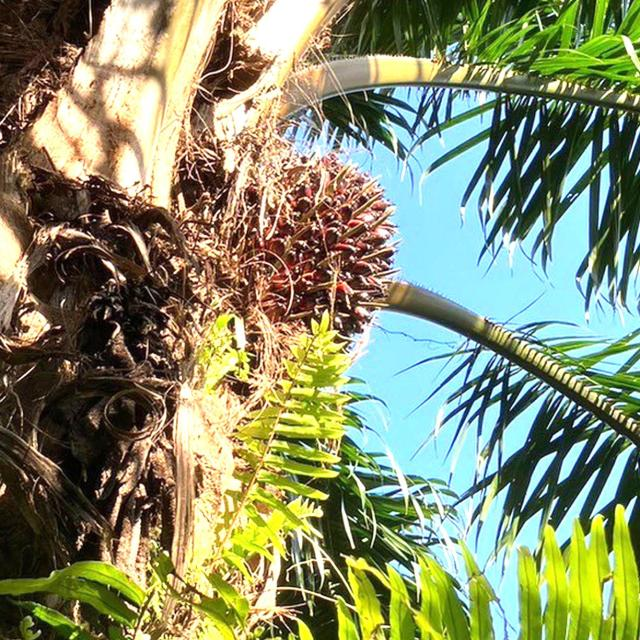ripe: (246, 148, 393, 356)
